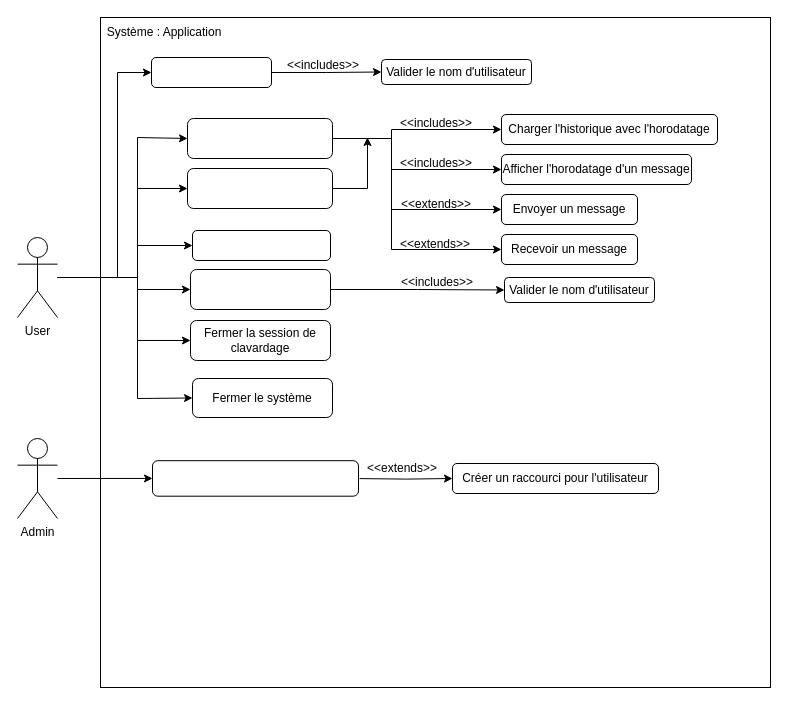
Image size: 788x705. Some labels were removed from this diagram. The box of each missing label's shape, as (x1, y1, x2, y2) in pixels:
Changer le pseudonyme: (190, 268, 330, 310)
Cliquer sur un destinataire: (186, 168, 332, 208)
Copier une série de fichiers sur le poste de travail de l'utilisateur: (152, 460, 358, 496)
Réduire l'agent: (192, 230, 330, 260)
Saisir Pseudonyme: (150, 56, 272, 88)
Saisir un destinataire: (186, 118, 332, 158)
